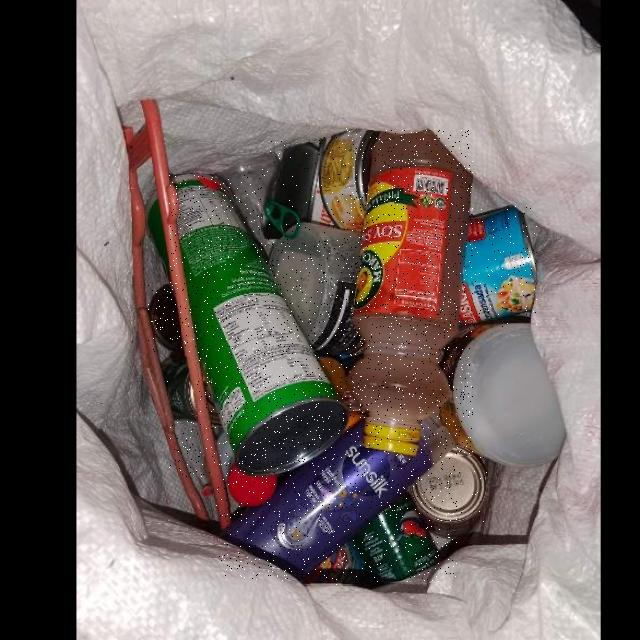metal: (170, 175, 349, 477), (460, 205, 537, 327), (262, 138, 339, 240), (355, 493, 441, 583), (411, 446, 487, 539), (318, 129, 380, 233), (303, 540, 366, 585), (161, 357, 198, 421), (149, 284, 181, 352)
plastic: (348, 131, 473, 456), (220, 413, 457, 581), (217, 432, 277, 507)
